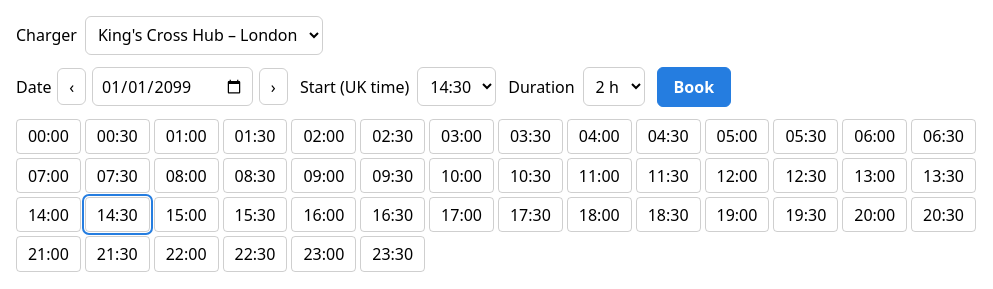
Test: ReservationForm › switches day with arrows and reloads availability
The image size is (993, 289).
Click the button named "Next day" at (273, 87), box [259,68,288,105]
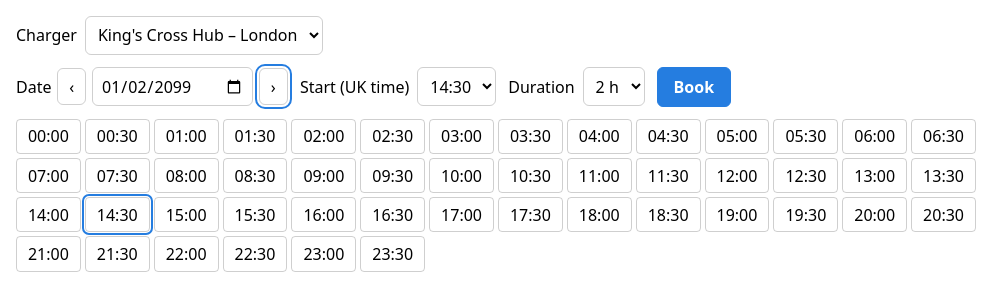
Now the date field labelled "Date" holds "2099-01-02", box [92,67,253,106]
